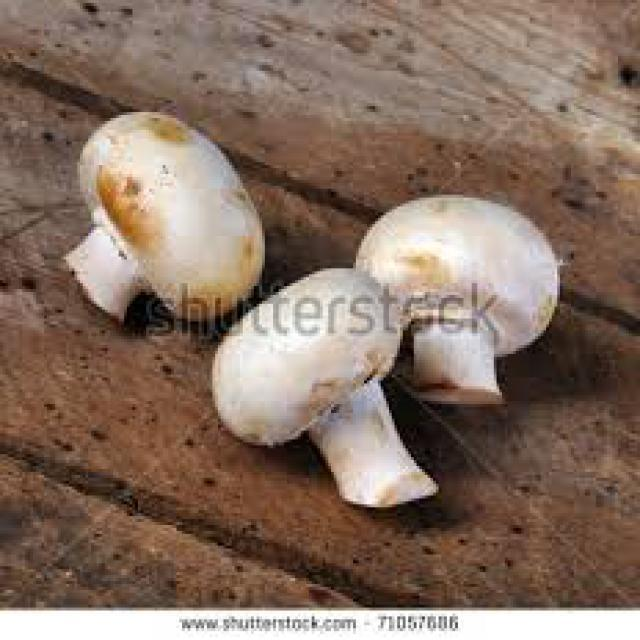Agaricus bisporus: (208, 280, 445, 512), (350, 194, 573, 403), (82, 118, 257, 322)
